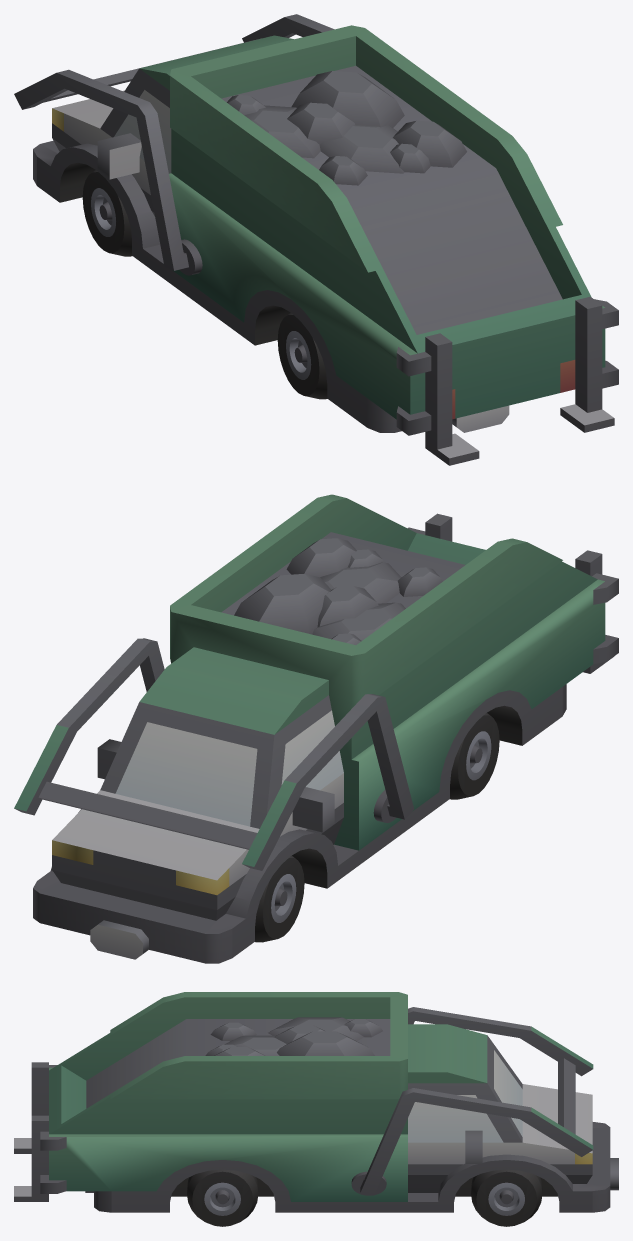
The model's file is garbage_truck.glb.
The picture shows the model from 3 angles, top to bottom: view 1: azimuth 30°, elevation 25°; view 2: azimuth 150°, elevation 25°; view 3: azimuth 270°, elevation 25°; orthographic projection. The views are drawn at different scales.
Parts seen in each view (by area): view 1: body, trash, arm, wheel-back-left, wheel-front-left; view 2: body, arm, trash, wheel-back-left, wheel-front-left; view 3: body, arm, trash, wheel-back-right, wheel-front-right.
Boxes of the visible parts, box(x1,y1,x2,y2) form: body: box(33, 25, 618, 465); trash: box(227, 71, 466, 185); arm: box(14, 14, 334, 275); wheel-back-left: box(277, 312, 327, 399); wheel-front-left: box(82, 169, 131, 256); body: box(33, 494, 618, 963); arm: box(14, 638, 414, 870); trash: box(234, 538, 442, 645); wheel-back-left: box(450, 713, 499, 799); wheel-front-left: box(255, 855, 304, 942); body: box(14, 992, 618, 1212); arm: box(351, 1007, 593, 1195); trash: box(205, 1017, 382, 1055); wheel-back-right: box(187, 1169, 258, 1226); wheel-front-right: box(471, 1169, 542, 1226).
Bounding box in the file's own units: 2.03 × 1.91 × 6.07.
Materials: 1 (1 with a texture image).
